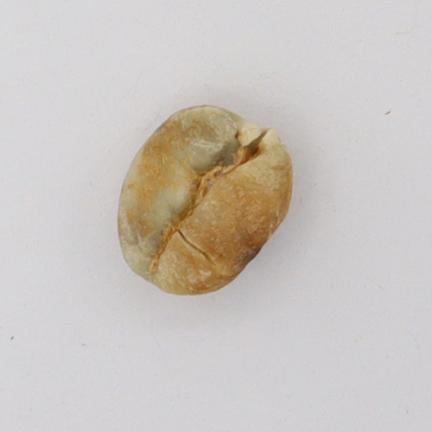broken: (118, 105, 291, 292)
